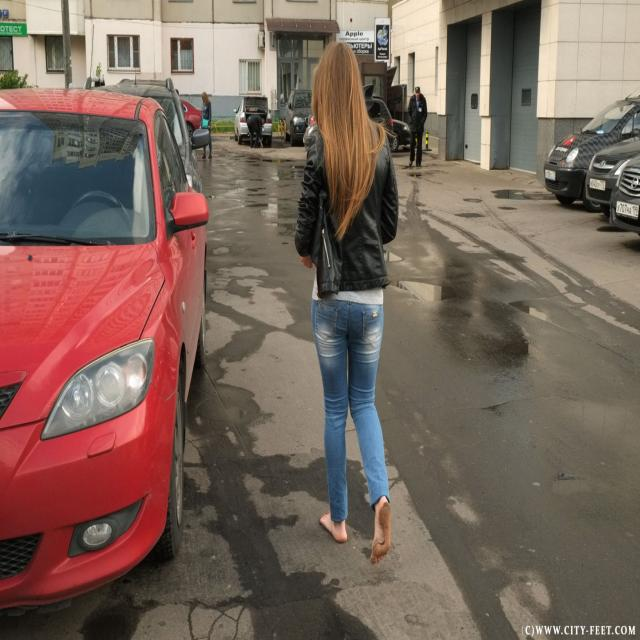Barefoots: (370, 499, 391, 564), (320, 511, 347, 544)
